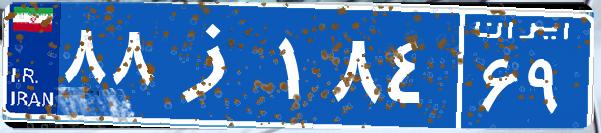1: (273, 28, 330, 110)
4: (385, 28, 445, 110)
6: (475, 38, 525, 113)
8: (330, 28, 385, 110), (57, 26, 110, 107), (110, 28, 158, 105)
9: (525, 38, 570, 115)
ز: (158, 15, 273, 115)
